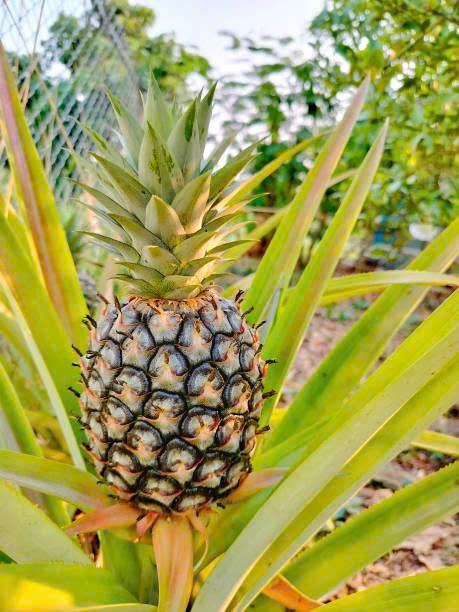pineapple: (64, 65, 270, 516)
